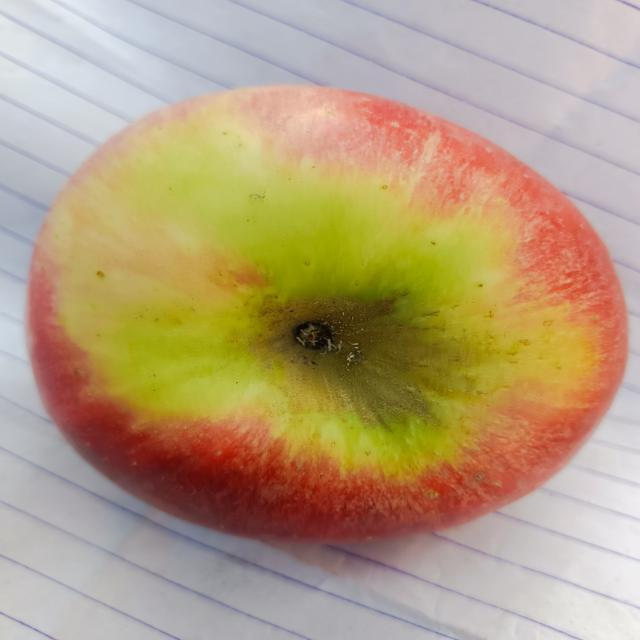Fresh Apple: (32, 77, 634, 544)
